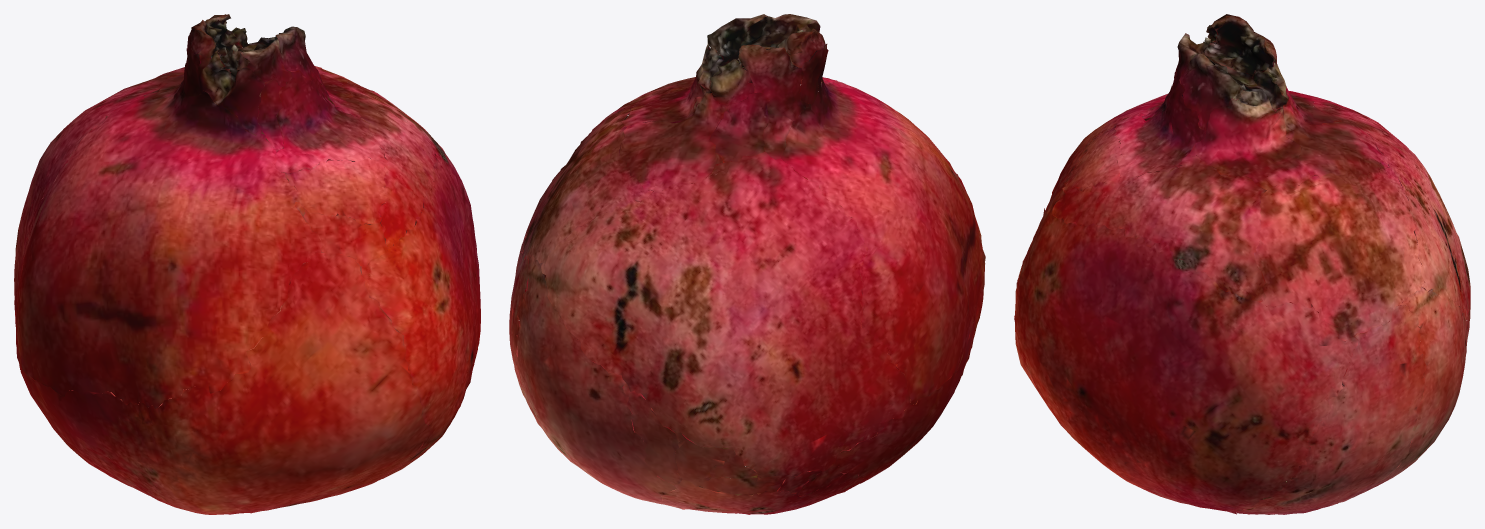
Rendered from pomegranate.glb.
3 renders of one model, left to right at view 1: azimuth 30°, elevation 25°; view 2: azimuth 150°, elevation 25°; view 3: azimuth 270°, elevation 25°, orthographic. The views are drawn at different scales.
Visible parts, largest first — view 1: Object_0; view 2: Object_0; view 3: Object_0.
Boxes of the visible parts, x1,y1,x2,y2 form: Object_0: [14, 14, 480, 514]; Object_0: [509, 14, 985, 514]; Object_0: [1014, 14, 1470, 514].
Bounding box in the file's own units: 0.0814 × 0.09 × 0.082.
1 material, 1 textured.
